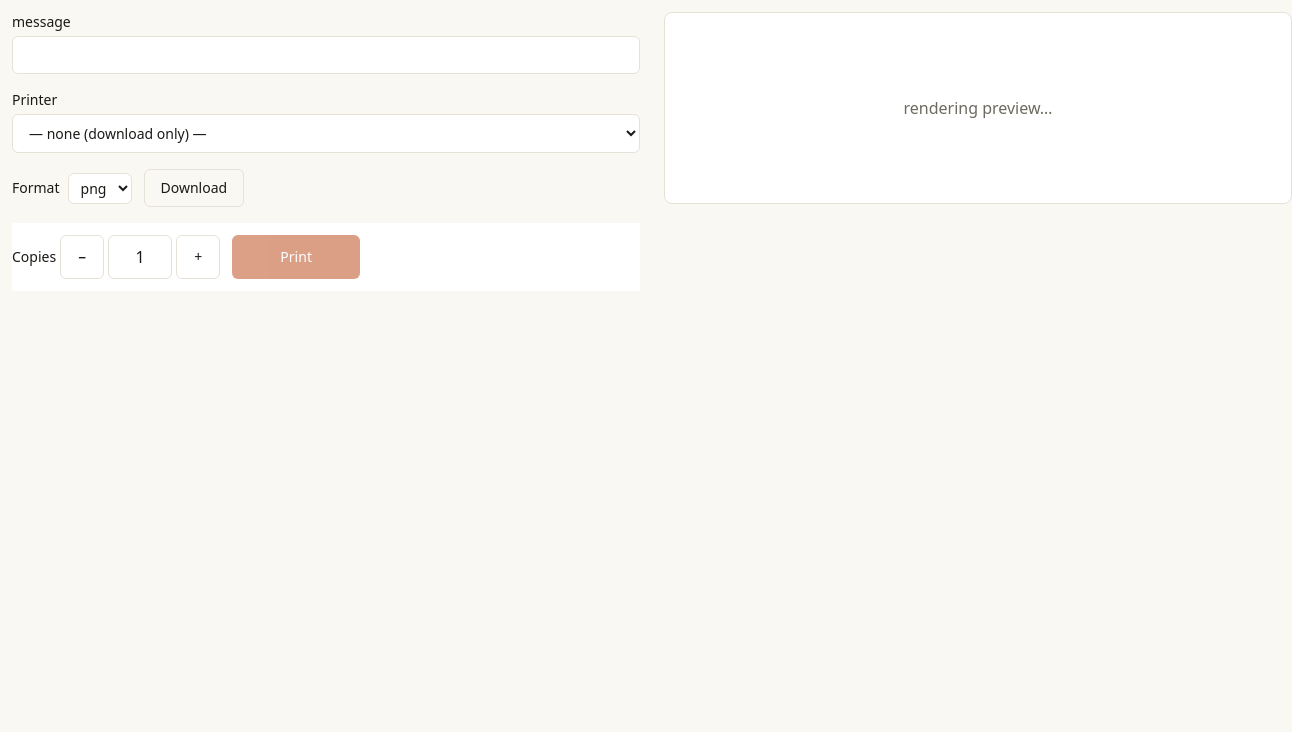
Scenario: PrintForm copies › shows a refused label's own error after a Download
expect the field named "message" is shown: met, box [12,36,640,74]
Click the button "Download": [194, 188] box [144,169,244,207]
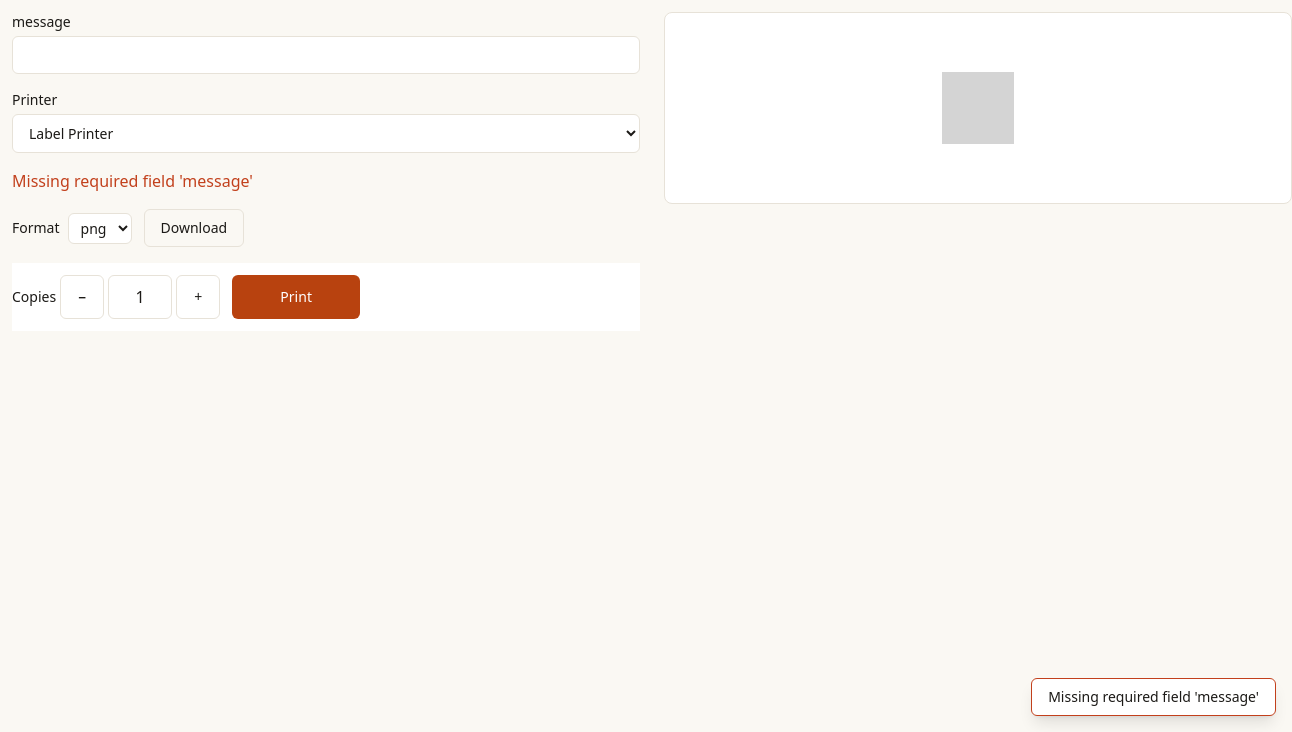
expect the text "Missing required field 'message'" is shown: met, box [12,170,253,192]
